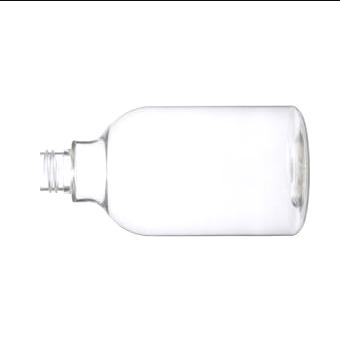bottle: (37, 105, 309, 235)
